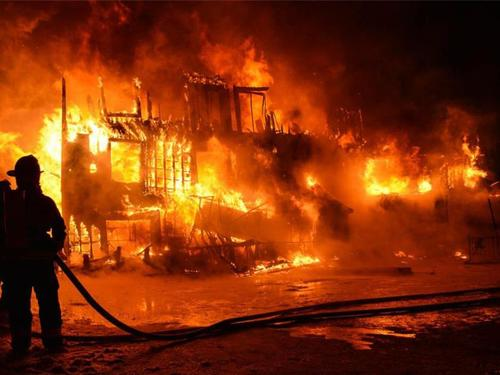fire: (47, 68, 460, 263)
